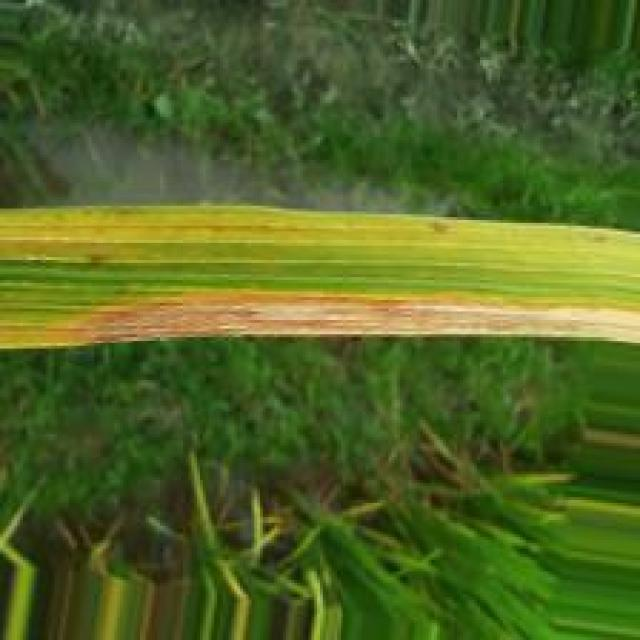Bacterial_Leaf_Blight: (0, 256, 640, 354), (0, 202, 640, 263)
